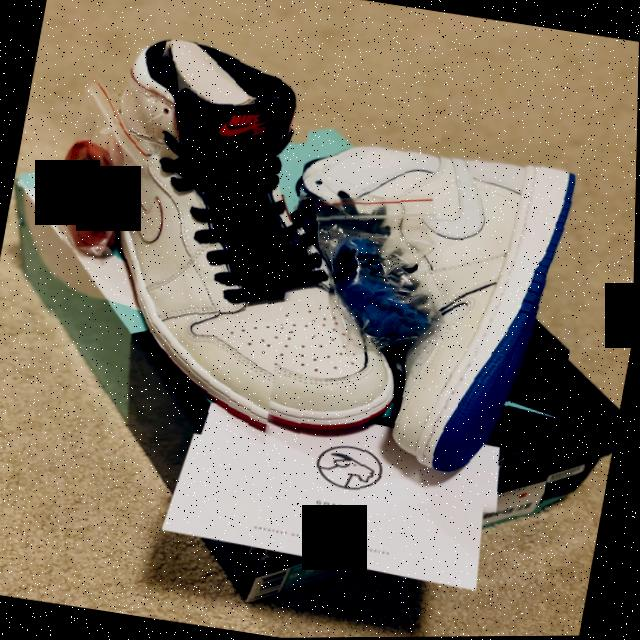shoe: (30, 9, 456, 465), (247, 123, 605, 526)
